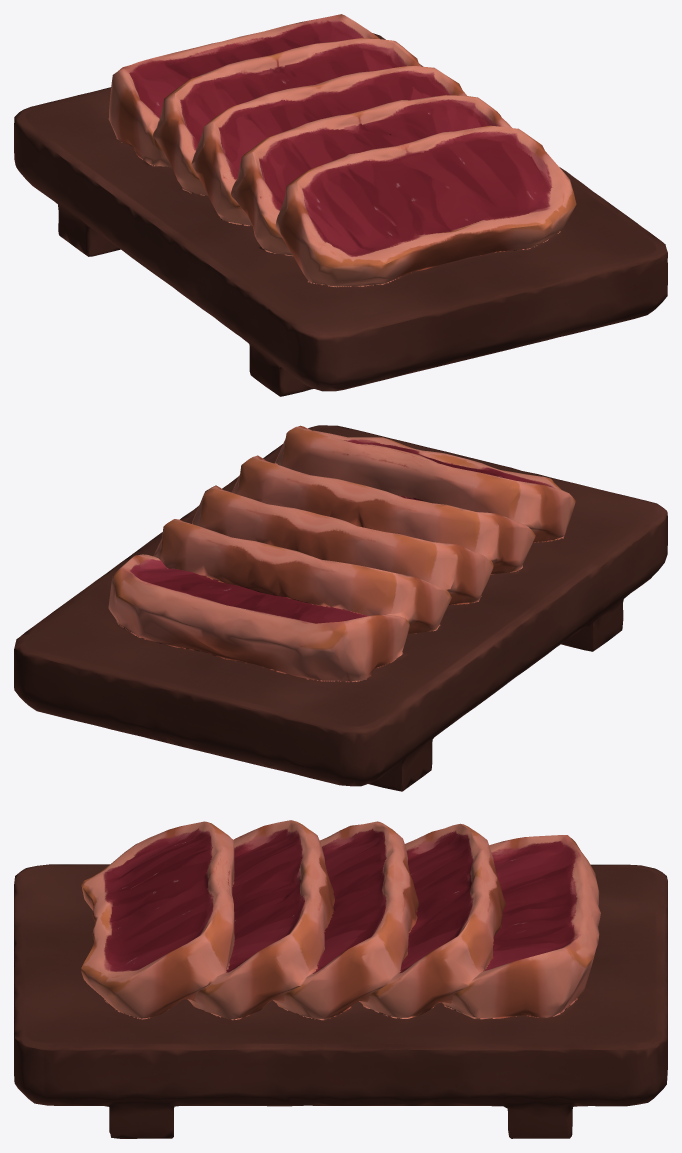
Rendered from tataki_atun_rojo.glb.
3 renders of one model, top to bottom at view 1: azimuth 30°, elevation 25°; view 2: azimuth 150°, elevation 25°; view 3: azimuth 270°, elevation 25°, orthographic. The views are drawn at different scales.
Parts seen in each view (by area): view 1: world; view 2: world; view 3: world.
Boxes of the visible parts, <box> form: world: <box>14,14,667,396</box>; world: <box>14,425,667,791</box>; world: <box>14,820,667,1138</box>.
Size of the model in its own units: 0.6749 by 0.3085 by 1.
1 material, 1 textured.
